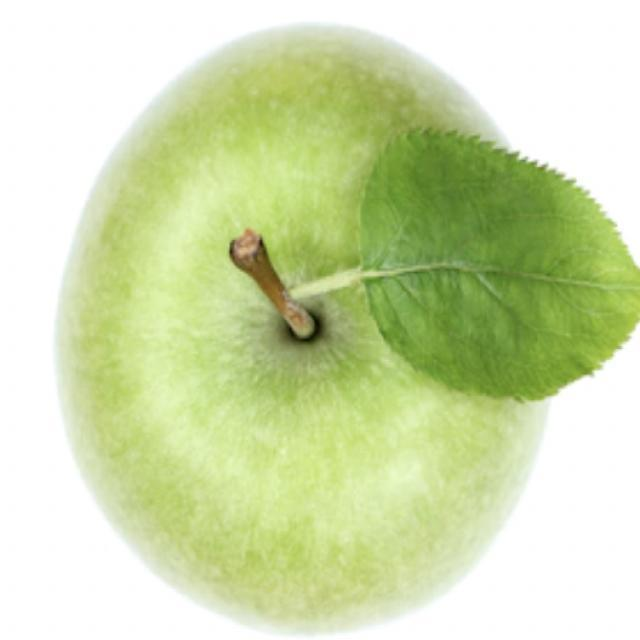Fresh Apple: (78, 23, 537, 587)
